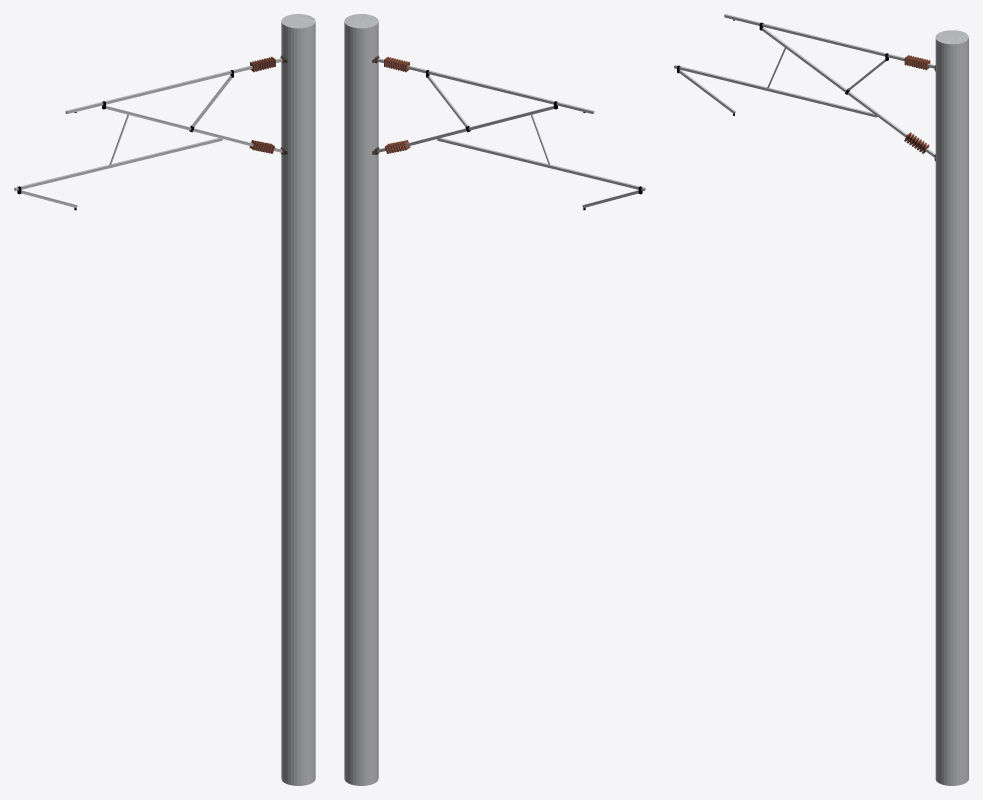
File: catenary_circular_anti.obj
The picture shows the model from 3 angles, left to right: view 1: azimuth 30°, elevation 25°; view 2: azimuth 150°, elevation 25°; view 3: azimuth 330°, elevation 25°; orthographic projection. The views are drawn at different scales.
Parts seen in each view (by area): view 1: catenary_anti; view 2: catenary_anti; view 3: catenary_anti.
Boxes of the visible parts, <box> form: catenary_anti: <box>14,14,315,785</box>; catenary_anti: <box>344,14,645,785</box>; catenary_anti: <box>674,14,968,785</box>.
Size of the model in its own units: 4.01 by 9.73 by 0.3978.
4 materials, 4 textured.
